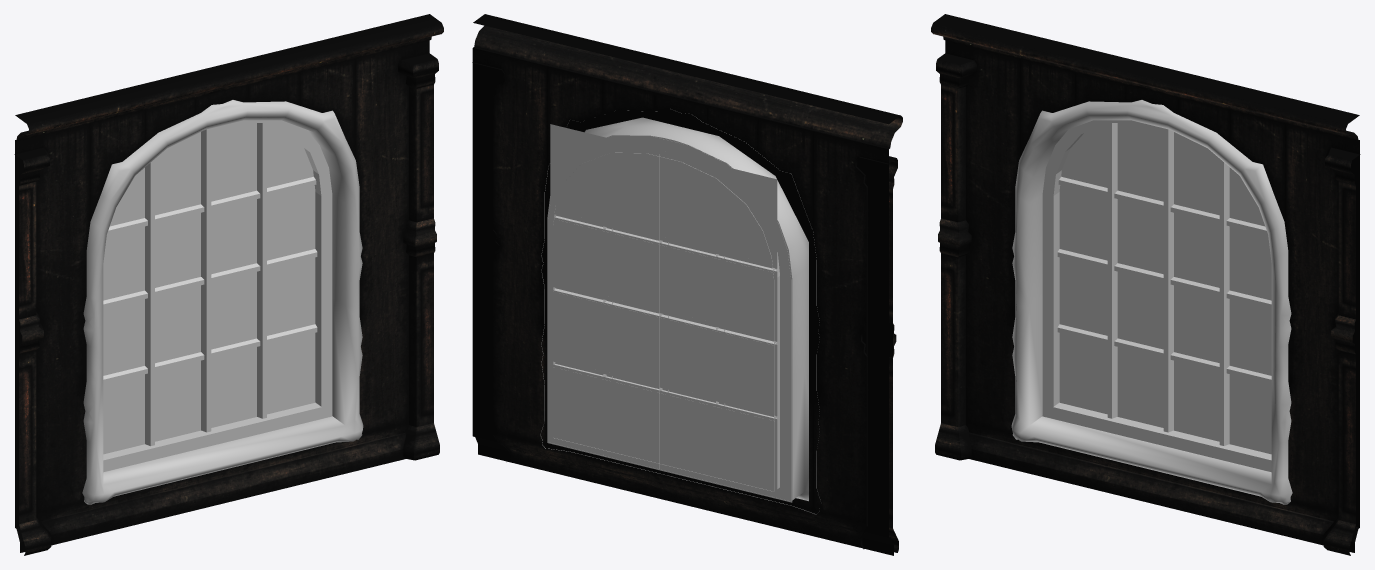
File: window02_large_yellow_rotten.dae
3 views of the same model, side by side, from view 1: azimuth 30°, elevation 25°; view 2: azimuth 150°, elevation 25°; view 3: azimuth 330°, elevation 25° (orthographic).
Parts seen in each view (by area): view 1: window02_large_blue1, window02_large_frame3, window02_large_glass_yellow4; view 2: window02_large_blue1, window02_large_glass_yellow4, window02_large_frame3; view 3: window02_large_blue1, window02_large_frame3, window02_large_glass_yellow4.
Boxes of the visible parts, x1,y1,x2,y2 form: window02_large_blue1: [14, 14, 443, 555]; window02_large_frame3: [82, 100, 363, 504]; window02_large_glass_yellow4: [103, 123, 315, 454]; window02_large_blue1: [472, 14, 902, 555]; window02_large_glass_yellow4: [550, 124, 777, 496]; window02_large_frame3: [540, 110, 820, 514]; window02_large_blue1: [931, 14, 1360, 555]; window02_large_frame3: [1011, 100, 1292, 504]; window02_large_glass_yellow4: [1059, 123, 1271, 454].
Size of the model in its own units: 4 by 4 by 0.5209.
